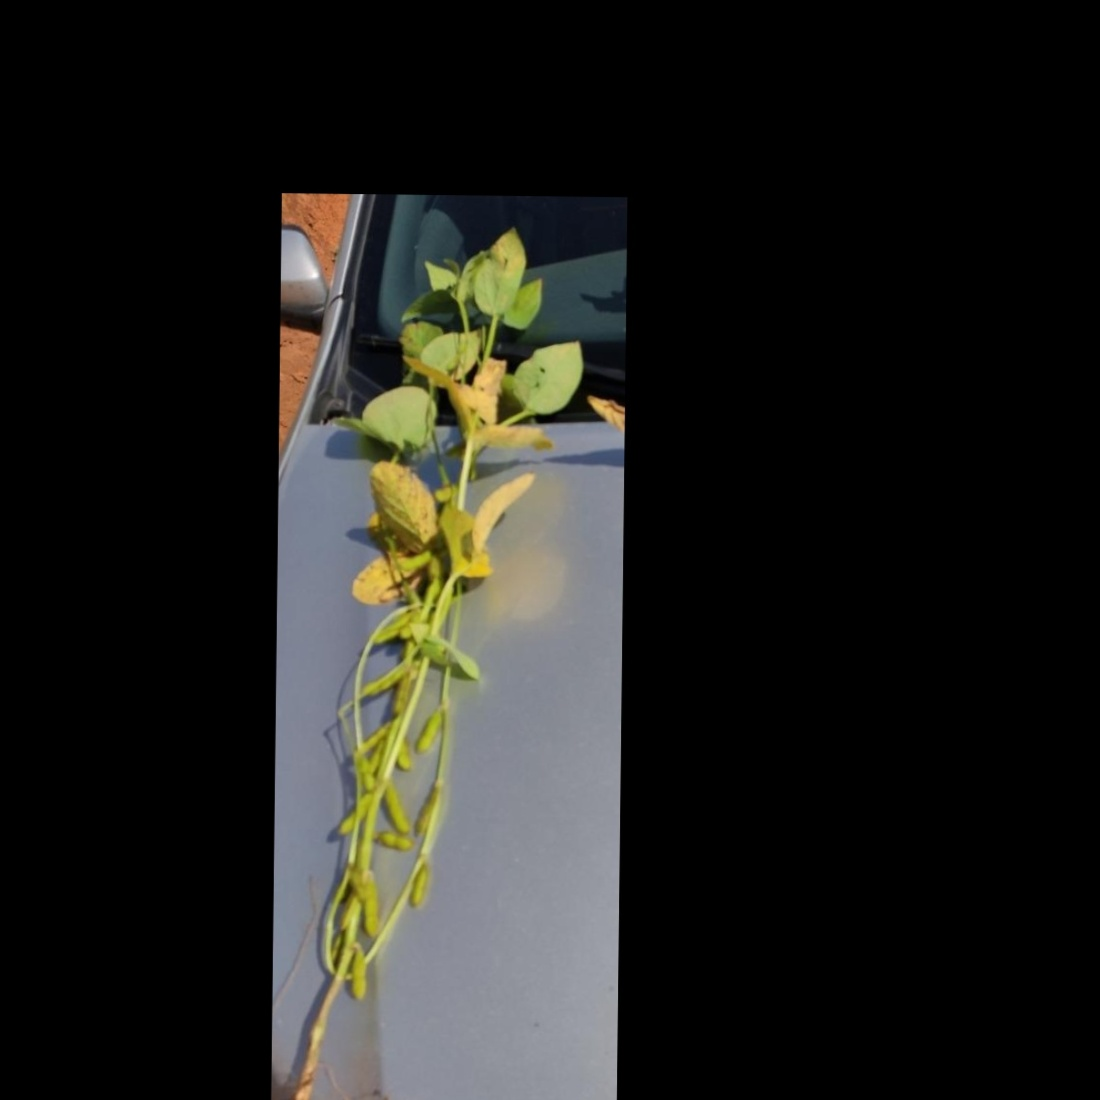pod: (349, 717, 403, 761), (323, 791, 372, 837), (410, 704, 447, 755), (381, 782, 412, 841), (360, 871, 382, 944), (348, 942, 370, 1011), (409, 859, 431, 912), (373, 831, 417, 855)
soy: (271, 263, 567, 1100)
